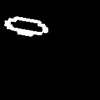chain: (5, 17, 47, 35)
